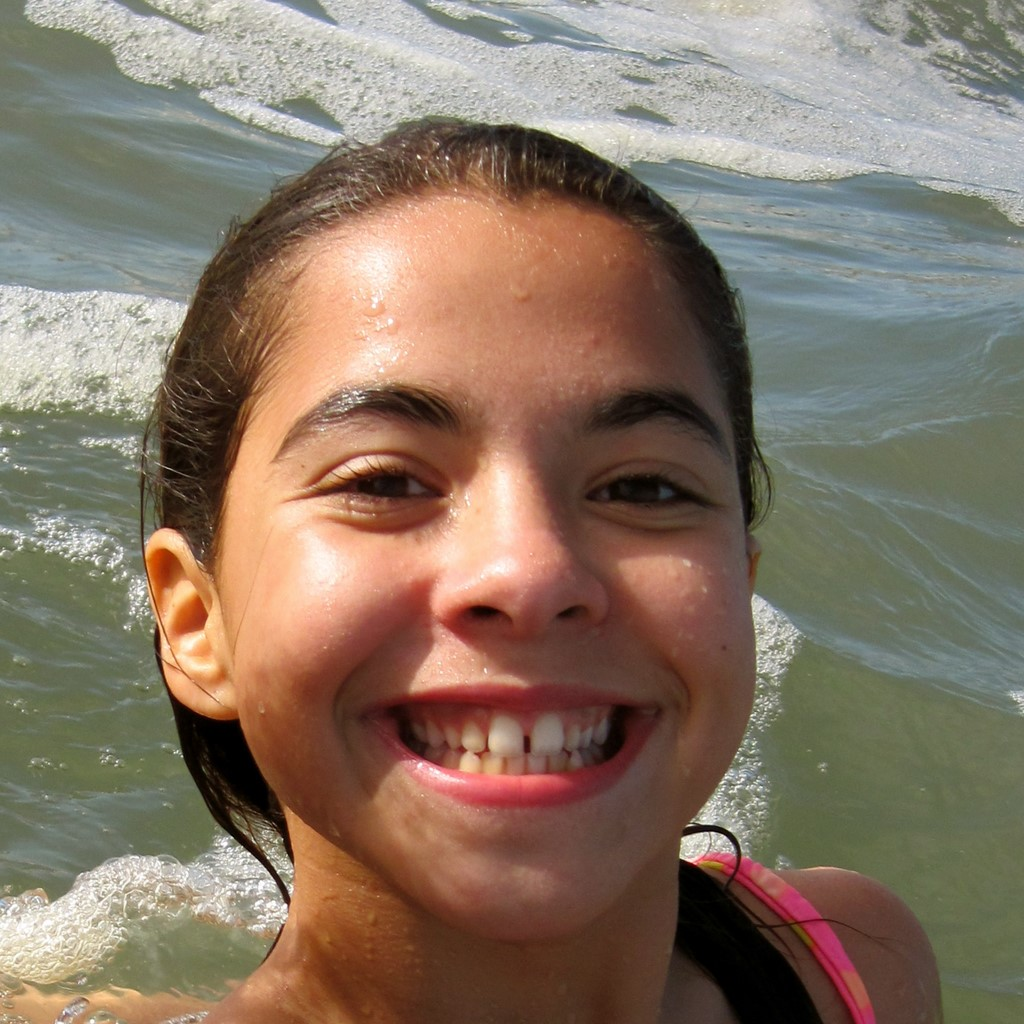sin_mascara: (227, 187, 770, 946)
